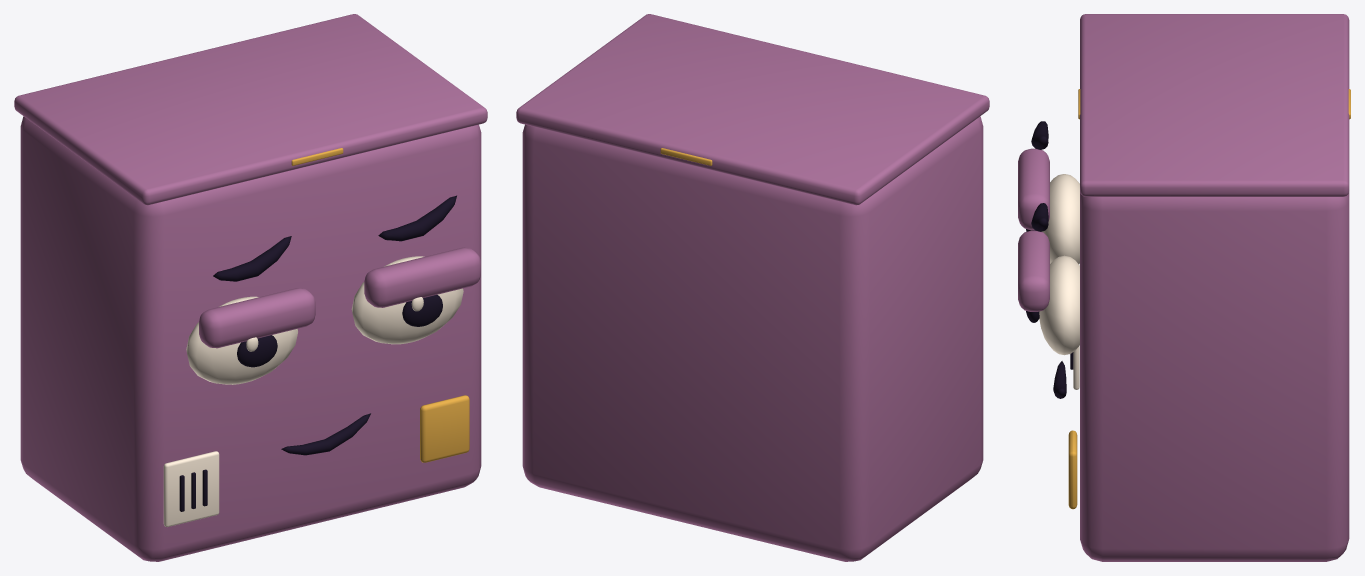
The model's file is pacote_arrogante.glb.
3 views of the same model, side by side, from view 1: azimuth 30°, elevation 25°; view 2: azimuth 150°, elevation 25°; view 3: azimuth 270°, elevation 25° (orthographic).
Parts seen in each view (by area): view 1: CartonBody, LidFold, HeavyUpperEyelid, HeavyUpperEyelid.001, ShippingLabel, eye white.001, eye white, LuxurySeal, Brow, Brow.001, boca animável, Pupil (+1 smaller); view 2: CartonBody, LidFold; view 3: CartonBody, LidFold, eye white.001, eye white, HeavyUpperEyelid.001, HeavyUpperEyelid, LuxurySeal.
Part boxes in pixels (x1,y1,x2,y2): CartonBody: (20,116,481,561); LidFold: (14,14,487,205); HeavyUpperEyelid: (199,288,315,348); HeavyUpperEyelid.001: (364,247,480,307); ShippingLabel: (163,451,219,526); eye white.001: (351,256,463,344); eye white: (186,296,297,384); LuxurySeal: (420,395,469,462); Brow: (213,236,291,281); Brow.001: (378,195,456,241); boca animável: (281,413,370,455); Pupil: (237,335,277,367); CartonBody: (522,116,983,561); LidFold: (516,14,989,205); CartonBody: (1080,191,1349,561); LidFold: (1080,14,1349,196); eye white.001: (1039,255,1079,355); eye white: (1041,174,1079,263); HeavyUpperEyelid.001: (1018,230,1049,311); HeavyUpperEyelid: (1018,148,1049,230); LuxurySeal: (1068,430,1077,509).
Bounding box in the file's own units: 0.57 × 0.6025 × 0.47.
